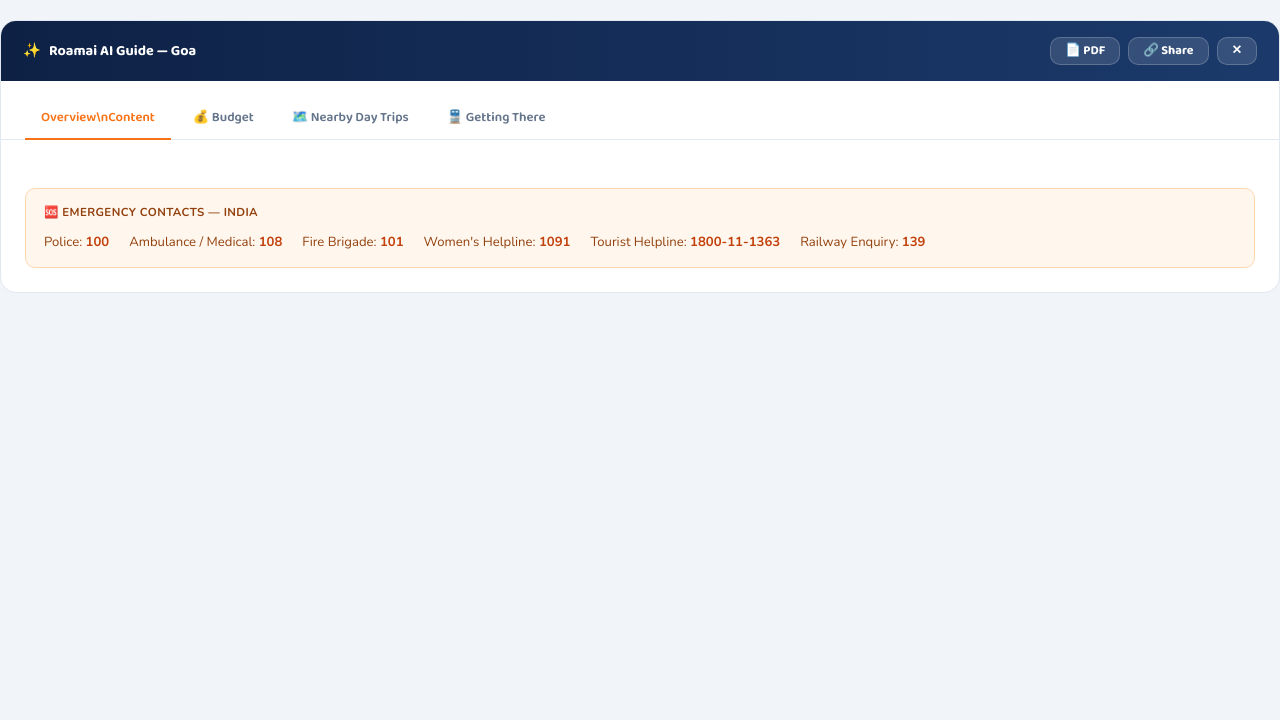
Test: AIResultBox › shows budget estimate card when Budget tab is clicked
Click the button "💰 Budget". click: point(223, 119)
box: [177, 98, 270, 140]
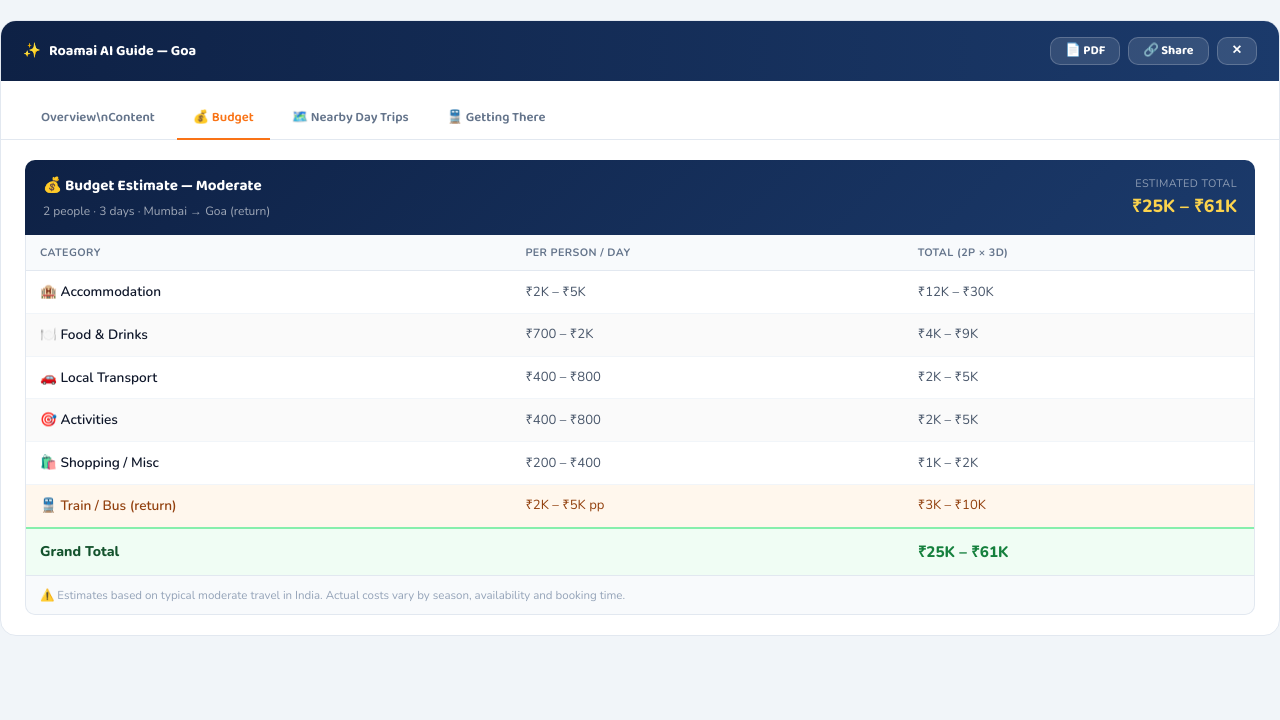
Result: the text "💰 Budget Estimate — Moderate" is shown at [43, 174, 270, 199]
